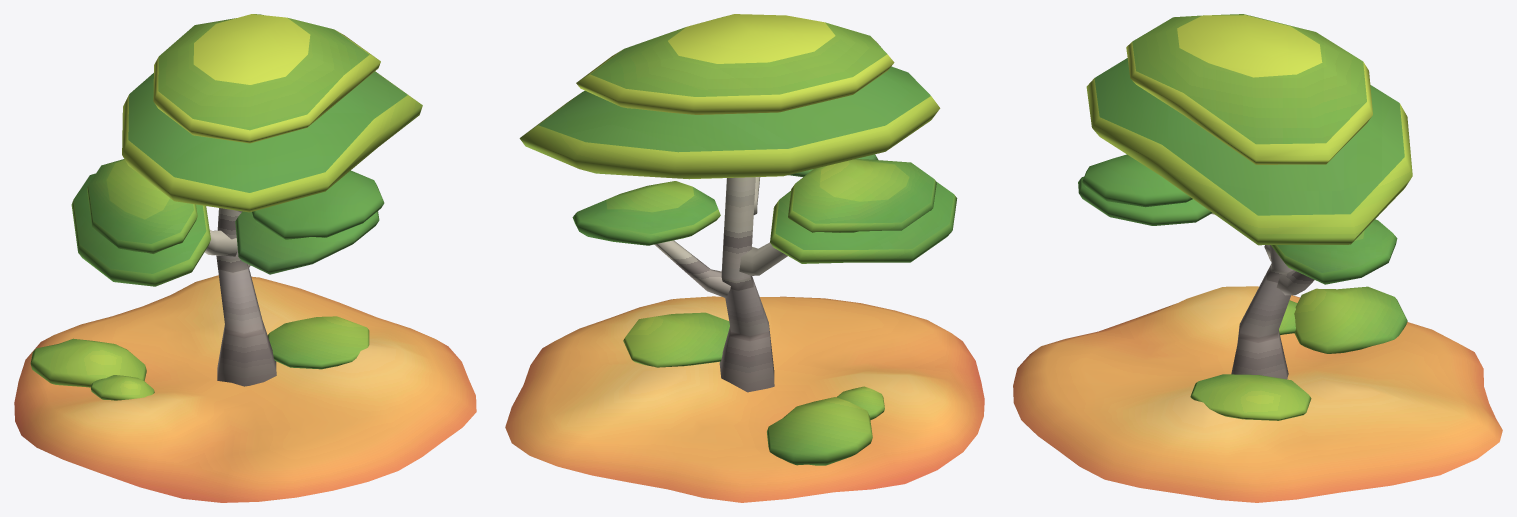
The model's file is TreeSav.fbx.
3 views of the same model, side by side, from view 1: azimuth 30°, elevation 25°; view 2: azimuth 150°, elevation 25°; view 3: azimuth 270°, elevation 25° (orthographic). The views are drawn at different scales.
Visible parts, largest first — view 1: pCylinder233; view 2: pCylinder233; view 3: pCylinder233.
Boxes of the visible parts, <box> form: pCylinder233: <box>14,14,476,502</box>; pCylinder233: <box>505,14,984,502</box>; pCylinder233: <box>1013,14,1502,502</box>.
Bounding box in the file's own units: 14.05 × 11.86 × 14.14.
